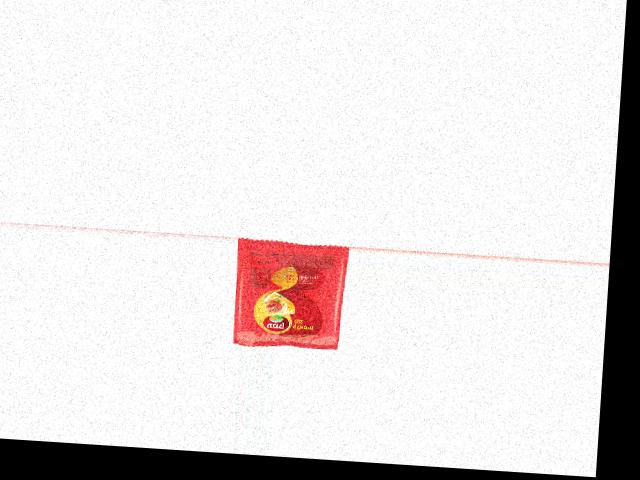cheese: (230, 237, 345, 350)
